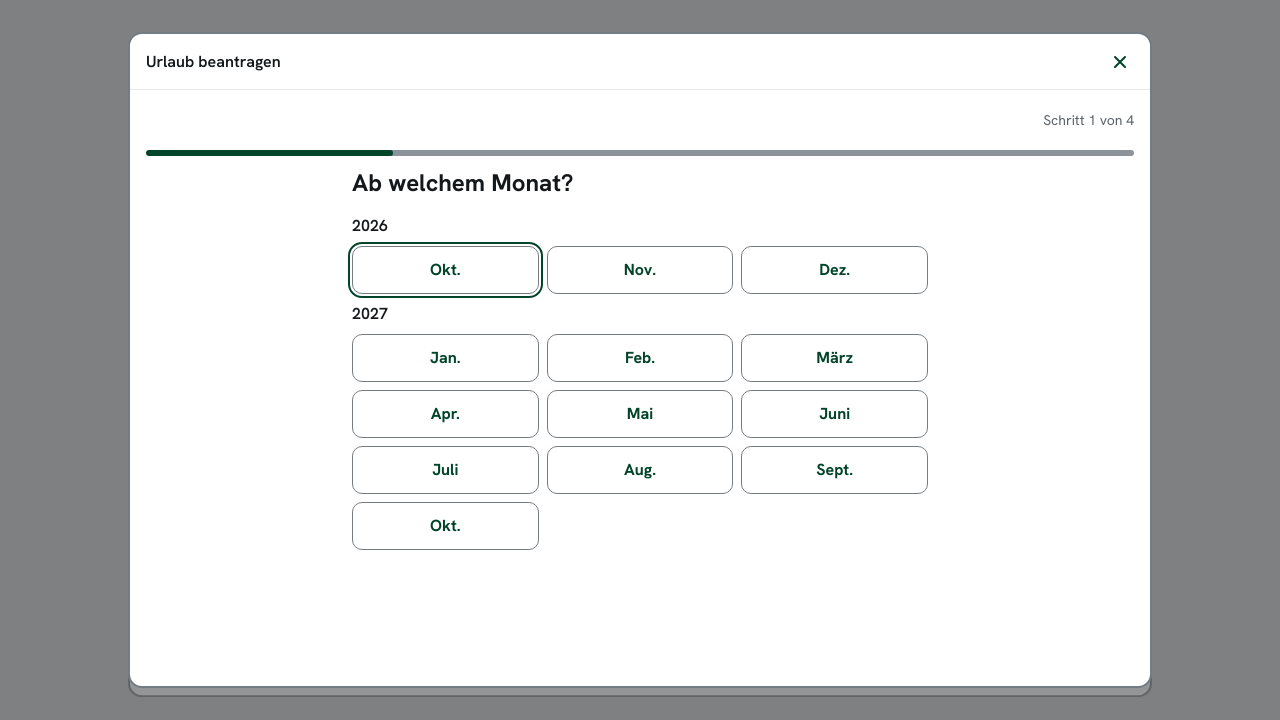
Test case: UrlaubBeantragenPage › nennt über eigenem Urlaub oder ohne Arbeitstag den Grund und sendet nicht
Click the button with aria-label "Nov. 2026".
click(640, 270)  # box [547,246,733,294]
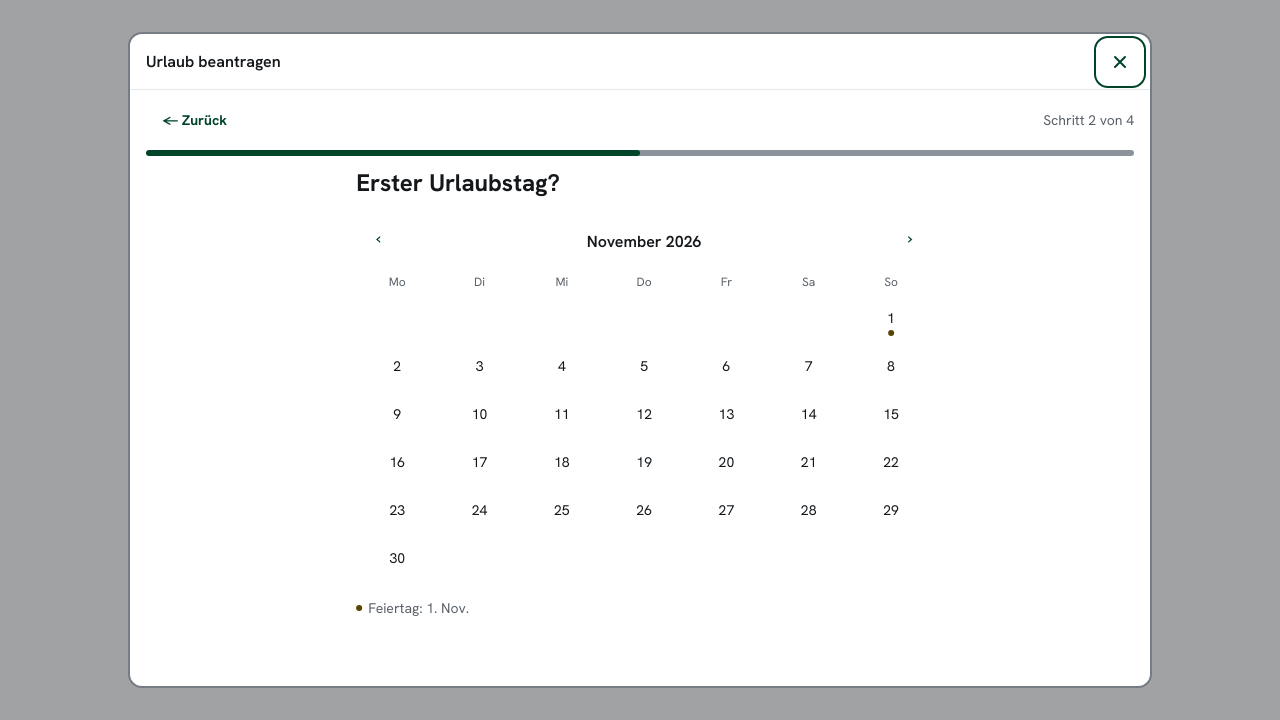
Click the button "2".
click(394, 366)  # box [372,344,416,388]
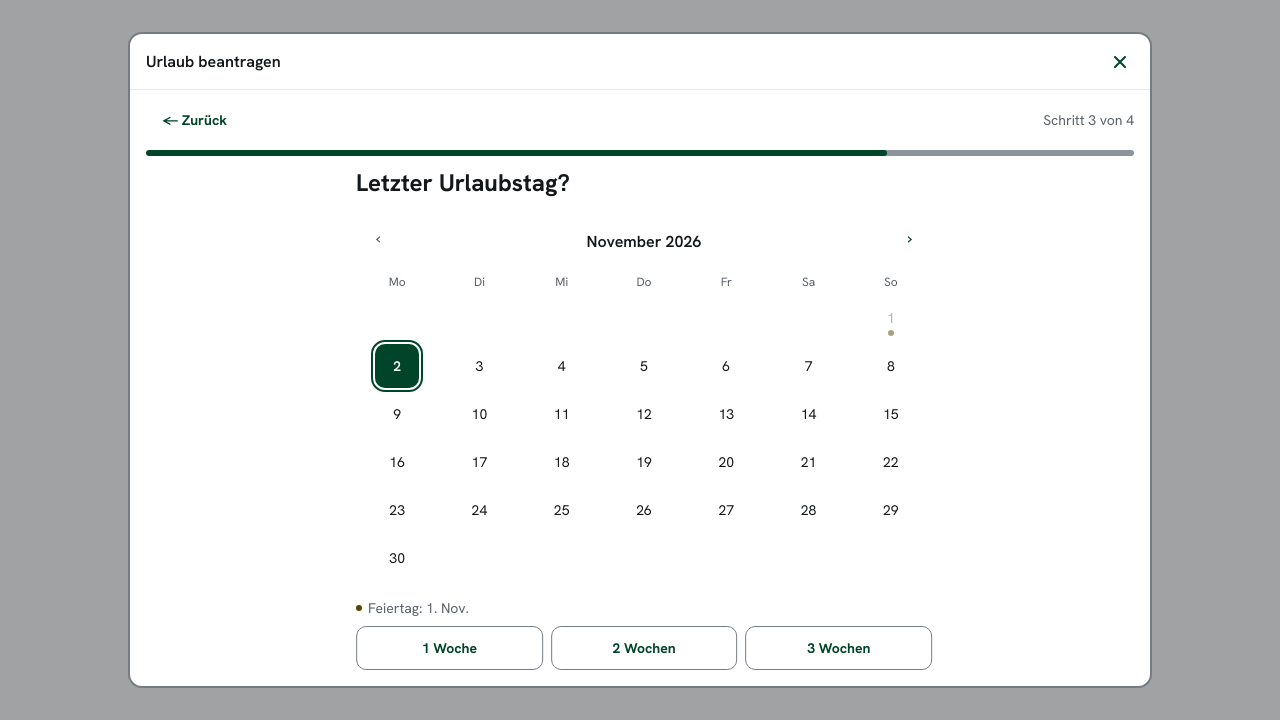
Click the button "3".
click(476, 366)  # box [454,344,498,388]
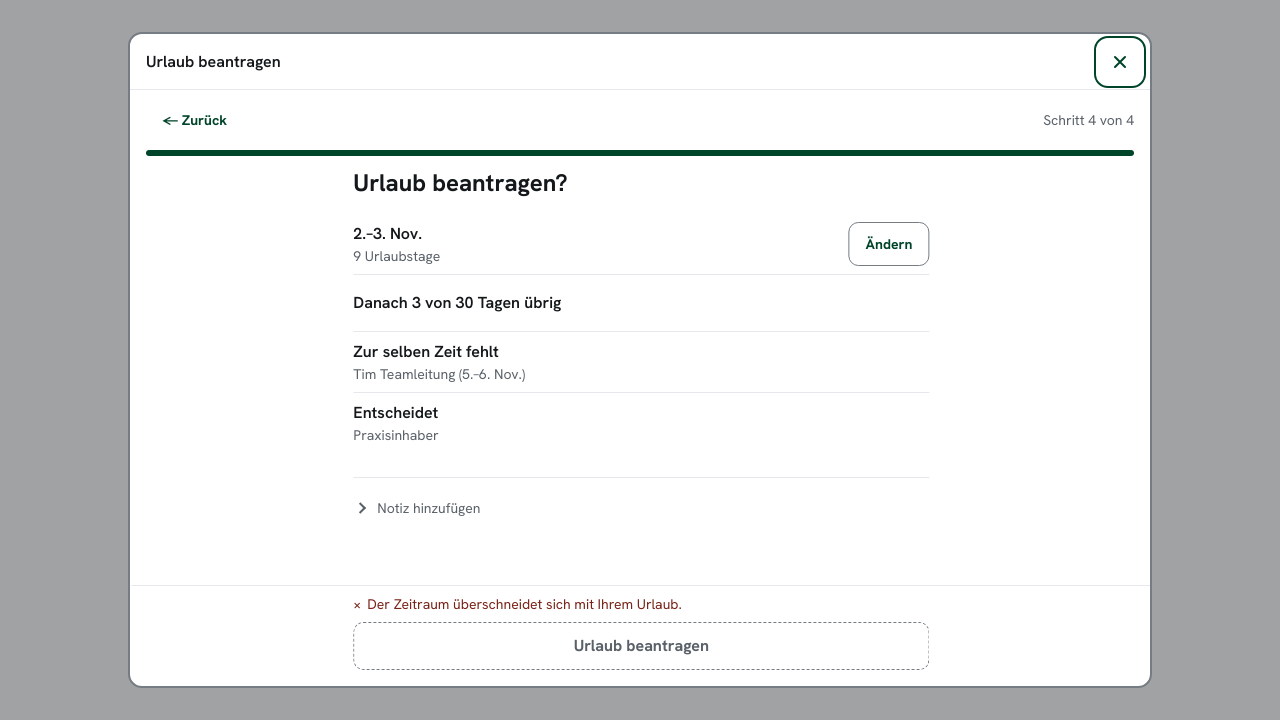
Expected: the text "Der Zeitraum überschneidet sich mit Ihrem Urlaub." is shown, [366,595,680,613]
Expected: the button "Urlaub beantragen" is disabled, [352,622,928,670]
Click the button with aria-label "Zeitraum ändern".
click(887, 244)  # box [847,222,928,266]
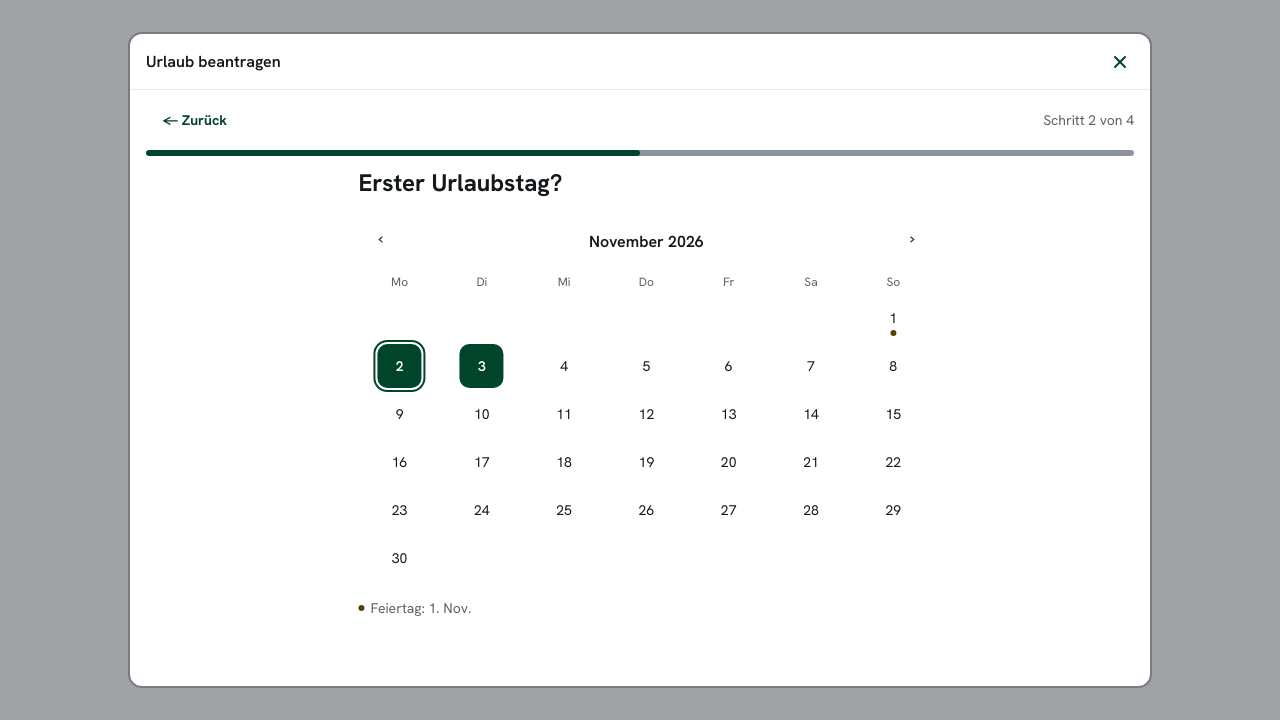
Click the button "7".
click(805, 366)  # box [783,344,827,388]
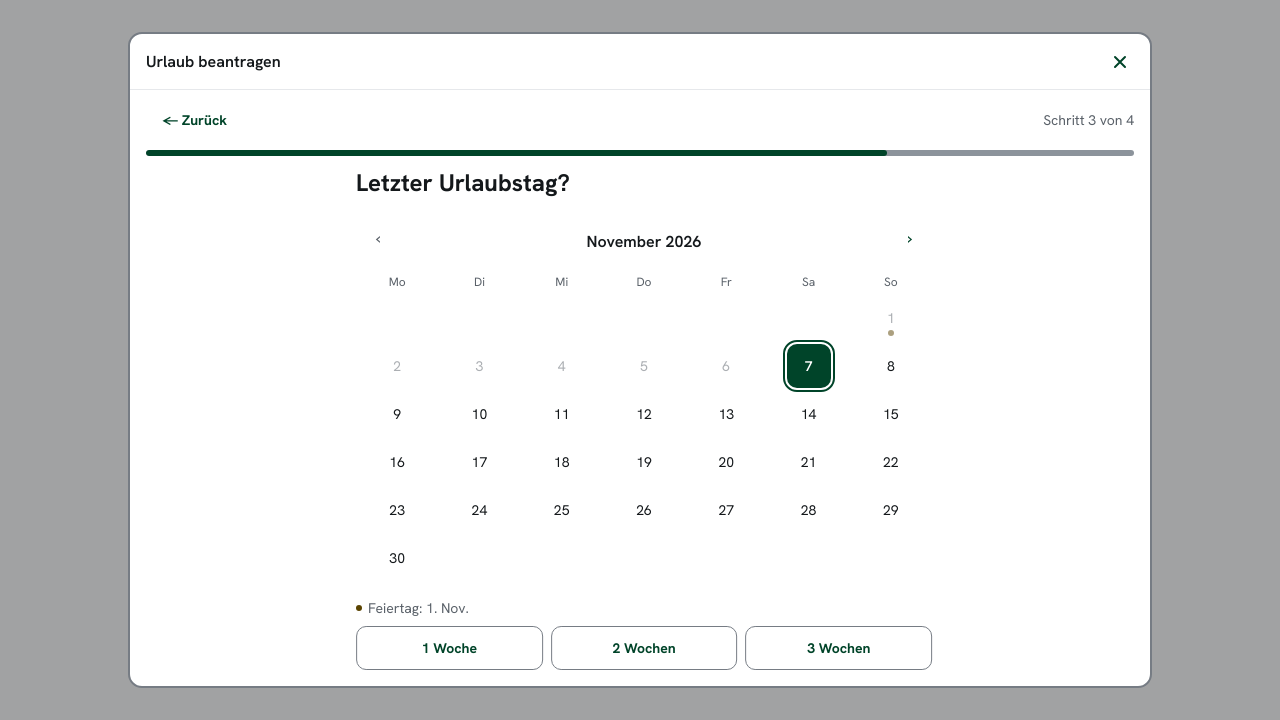
Click the button "7".
click(805, 366)  # box [783,344,827,388]
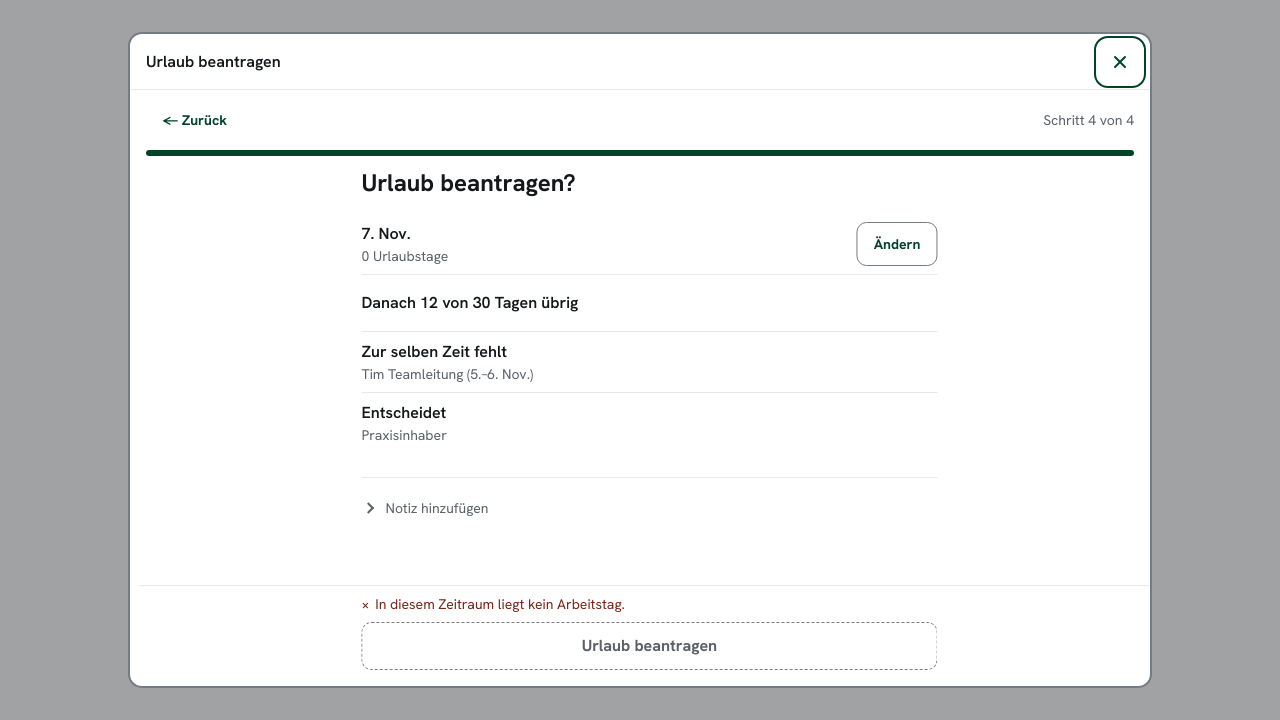
Expected: the text "In diesem Zeitraum liegt kein Arbeitstag." is shown, [367,595,617,613]
Expected: the button "Urlaub beantragen" is disabled, [353,622,929,670]
